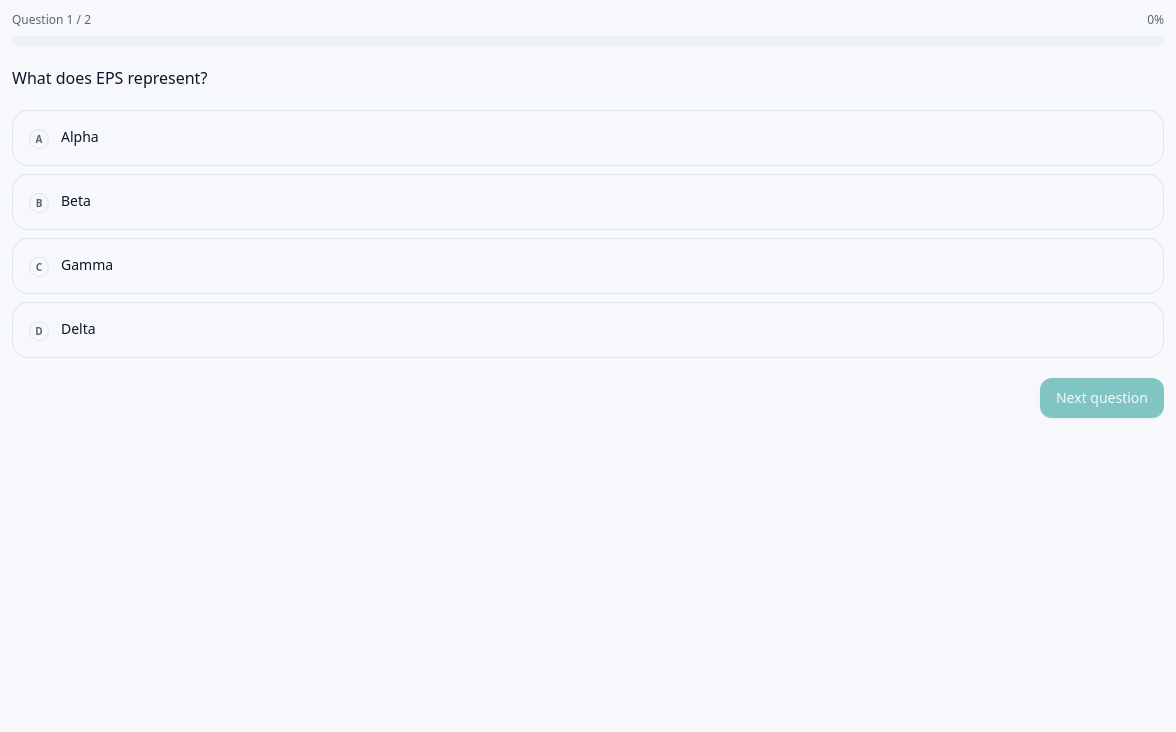
Test: Quiz › walks through every question and reports a final score
Question 1 — correct.
What coordinates should you click on to do the following:
click the button "B Beta"
I would click on:
 (39, 203)
Its box is [12, 174, 1164, 230].
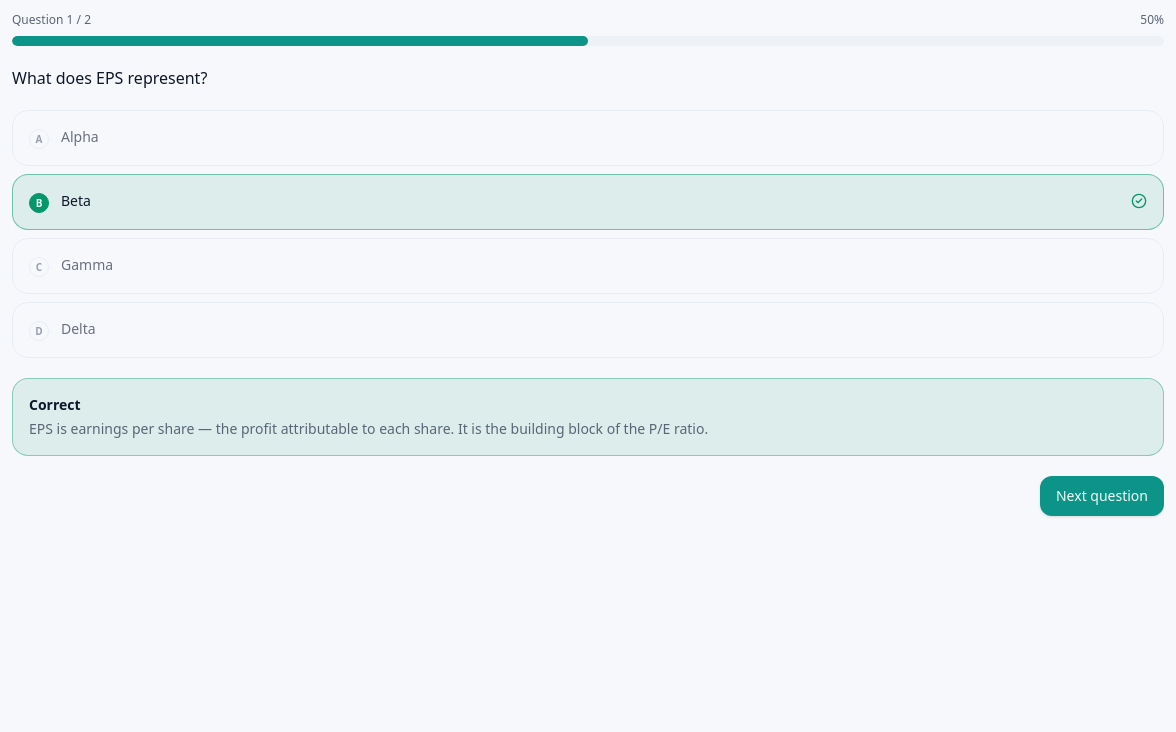
What coordinates should you click on to do the following:
click the button "Next question"
I would click on:
 (1102, 496)
Its box is [1040, 476, 1164, 516].
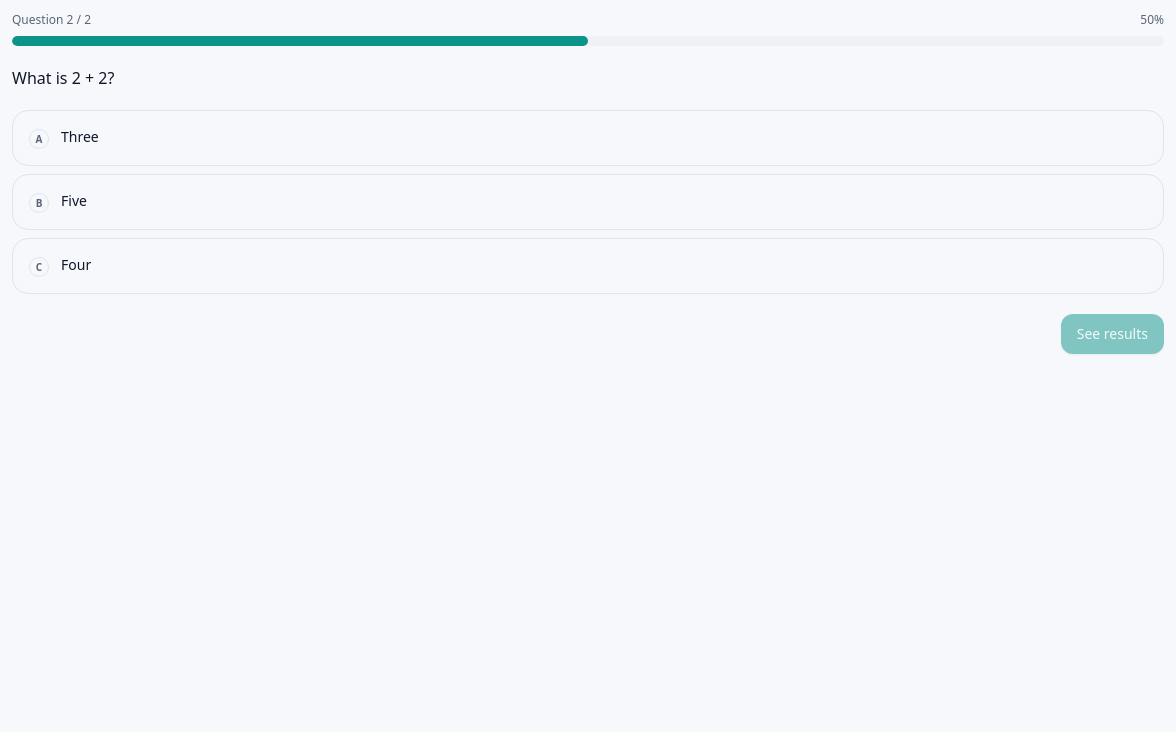
Question 2 — correct.
What coordinates should you click on to do the following:
click the button "C Four"
I would click on:
 (76, 264)
Its box is [12, 238, 1164, 294].
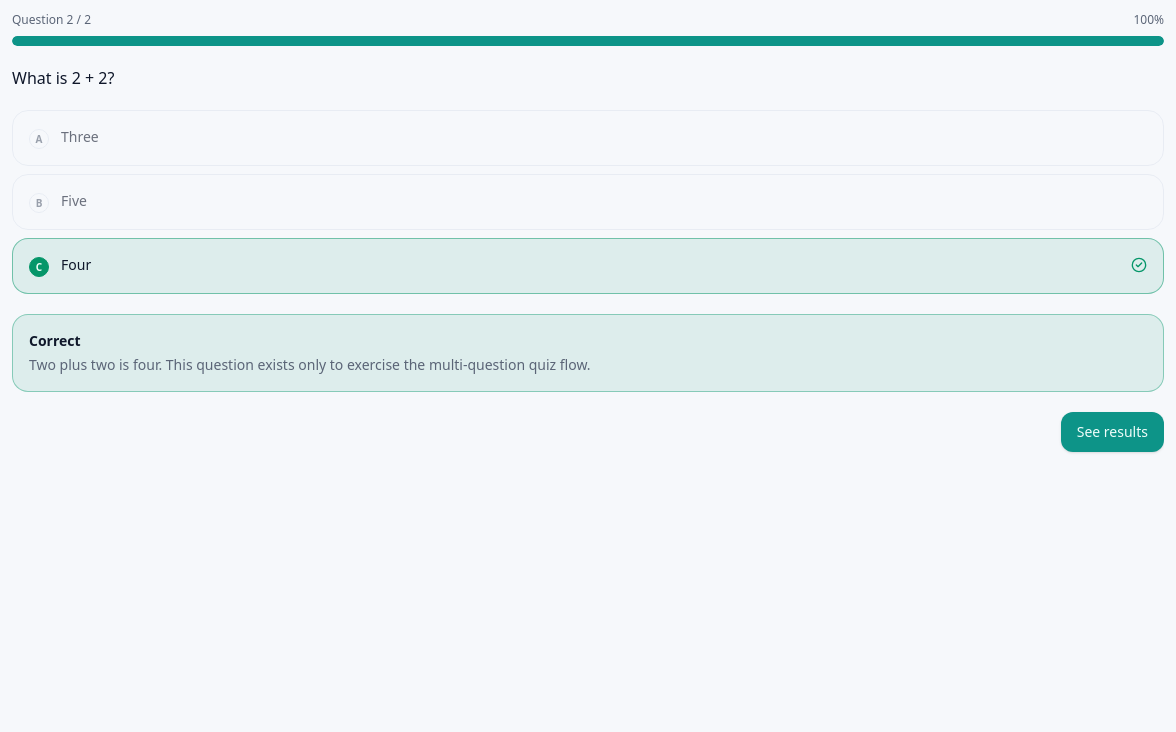
What coordinates should you click on to do the following:
click the button "See results"
I would click on:
 (1112, 432)
Its box is [1061, 412, 1164, 452].
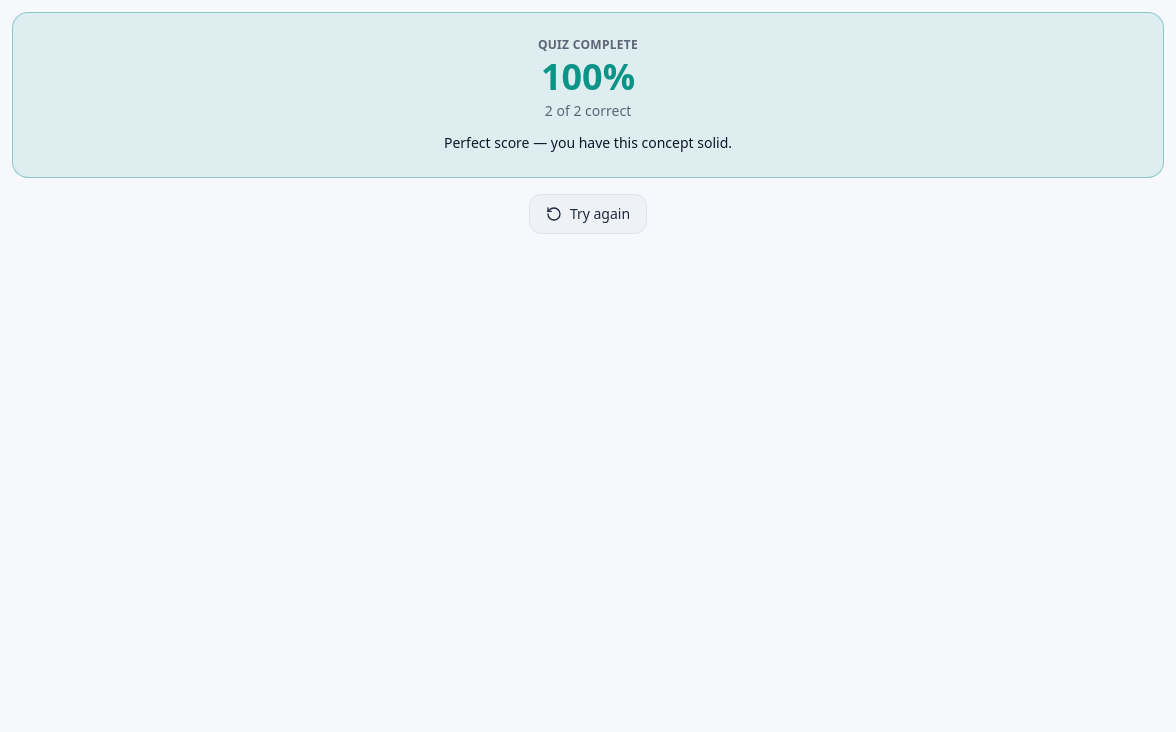
Expected: the text "100%" is shown, [541, 52, 635, 101]
Expected: the text "2 of 2 correct" is shown, [545, 101, 631, 120]
